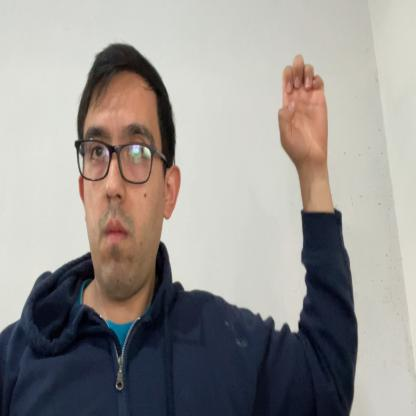E: (278, 53, 328, 165)
